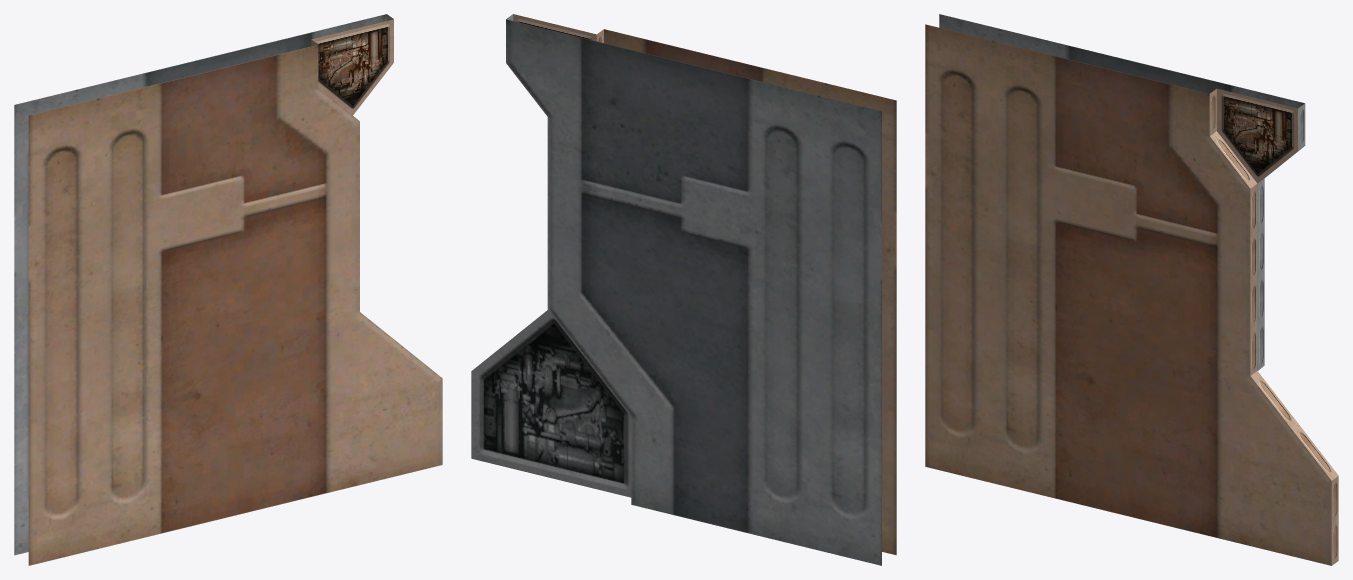
The model's file is door_nboo_emp_s05.fbx.
The picture shows the model from 3 angles, left to right: view 1: azimuth 30°, elevation 25°; view 2: azimuth 150°, elevation 25°; view 3: azimuth 330°, elevation 25°; orthographic projection. The views are drawn at different scales.
Parts seen in each view (by area): view 1: mesh_node; view 2: mesh_node; view 3: mesh_node.
Part boxes in pixels (x1=…): mesh_node: x1=14, y1=14, x2=442, y2=565; mesh_node: x1=471, y1=14, x2=896, y2=565; mesh_node: x1=925, y1=14, x2=1338, y2=565.
Bounding box in the file's own units: 5 × 5.2 × 0.3.
